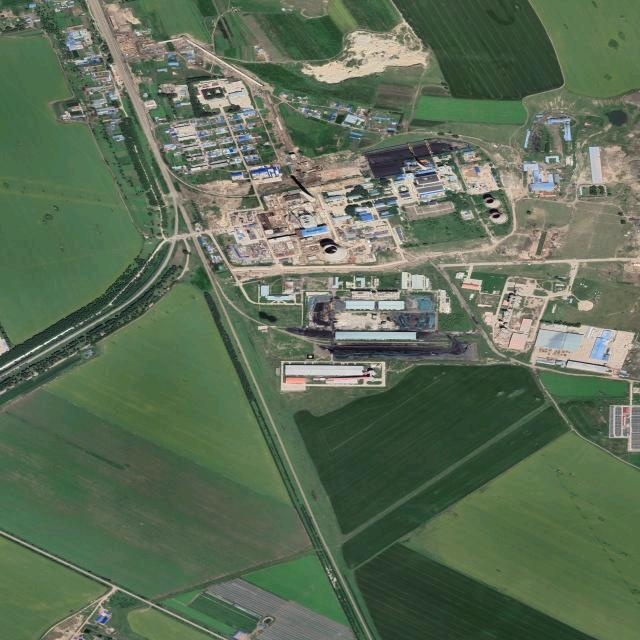coal_fired_power_plant: (280, 134, 511, 263)
